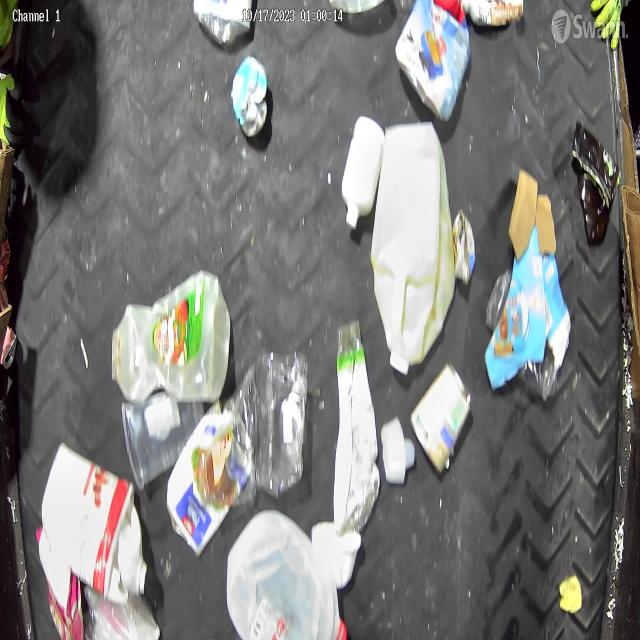milk-jug: (224, 510, 354, 640)
